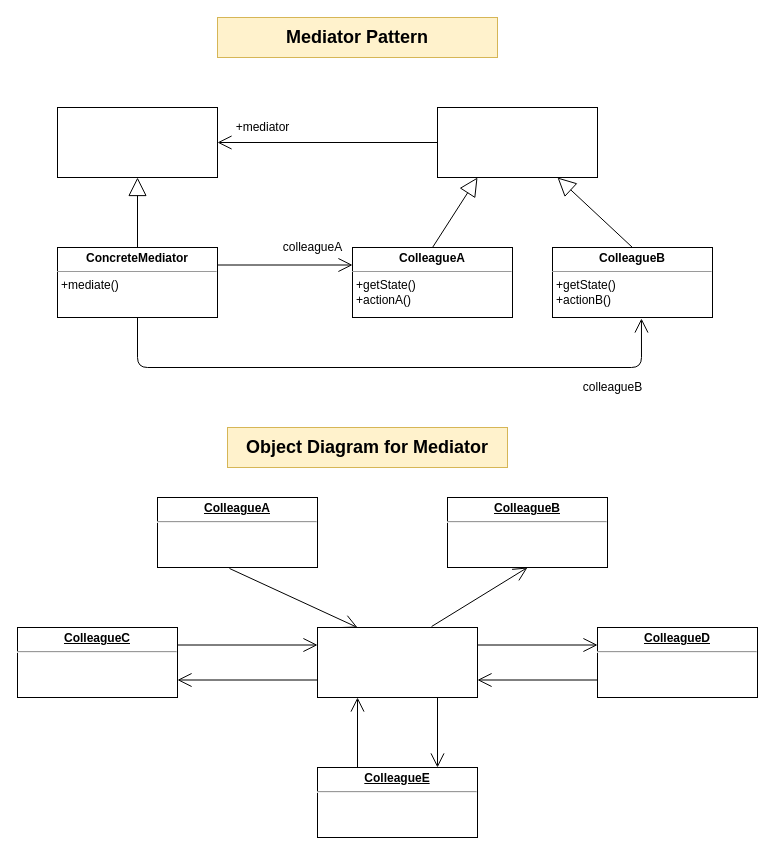
Some shapes in this 775 by 855 pixel diagram are drawn without their labels. Each missing label, with the centre of its shape:
Colleague +mediate(): (x=517, y=142)
ConcreteMediator: (x=397, y=662)
Mediator +mediate(): (x=137, y=142)
